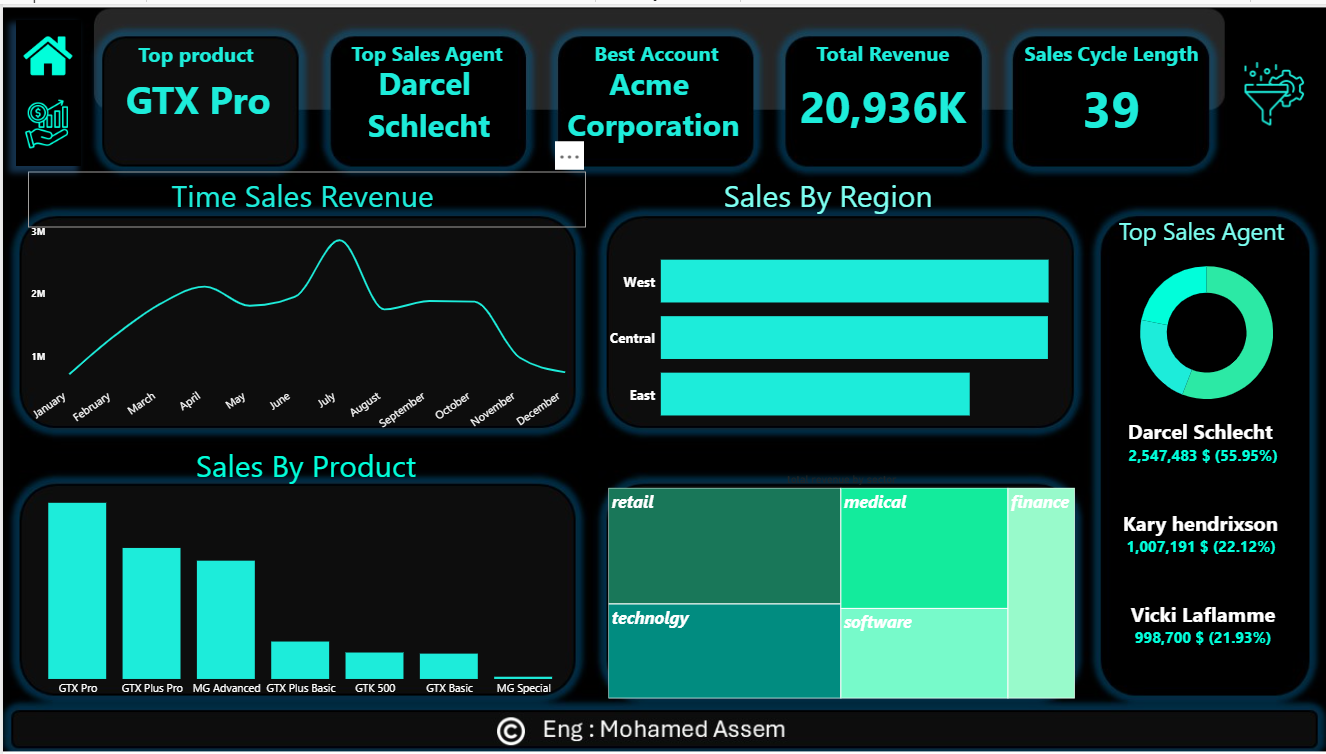

The page's visual inventory and layout, read from the dashboard file:
{"tool":"powerbi","page":{"name":"Main Dashboard","canvas":[2100,1200],"ordinal":1},"visuals":[{"type":"card","fields":{"Values":["Min(products.product)"]},"box":[157.7,52.6,306.6,195.6],"z":0},{"type":"textbox","box":[156.3,53.7,308,60.7],"z":1000},{"type":"card","fields":{"Values":["Min(sales_pipeline.sales_agent)"]},"box":[525.6,52.6,300.8,195.6],"z":2000},{"type":"textbox","box":[519.8,52.6,306.6,61.3],"z":3000},{"type":"card","fields":{"Values":["Min(accounts.account)"]},"box":[846.8,52.6,370.8,195.6],"z":4000},{"type":"textbox","box":[881.8,52.6,312.4,61.3],"z":5000},{"type":"card","fields":{"Values":["Dax measure.total revenue"]},"box":[1258.5,70.1,277.4,178.1],"z":6000},{"type":"textbox","box":[1258.5,52.6,277.4,61.3],"z":7000},{"type":"card","fields":{"Values":["Dax measure.Sales Cycle Length"]},"box":[1608.9,55.5,300.8,210.2],"z":8000},{"type":"textbox","box":[1608.9,52.6,300.8,70.1],"z":9000},{"type":"image","box":[1956.4,87.6,122.6,111],"z":10000},{"type":"lineChart","fields":{"Category":["Date_n.Date.Variation.Date Hierarchy.Year","Date_n.Date.Variation.Date Hierarchy.Quarter","Date_n.Date.Variation.Date Hierarchy.Month","Date_n.Date.Variation.Date Hierarchy.Day"],"Y":["Dax measure.total revenue"]},"box":[28.4,345.6,897.1,352.7],"z":11000},{"type":"clusteredBarChart","fields":{"Category":["sales_teams.regional_office"],"Y":["Dax measure.total revenue"]},"box":[956.3,357.4,750.3,340.9],"z":12000},{"type":"treemap","fields":{"Group":["accounts.sector"],"Values":["Dax measure.total revenue"]},"box":[956.4,744.1,750,363.1],"z":13000},{"type":"donutChart","fields":{"Category":["sales_pipeline.sales_agent"],"Y":["Dax measure.total revenue"]},"box":[1752,384.9,317.5,273.8],"z":14000},{"type":"textbox","box":[1732.7,598.9,345.6,508.9],"z":15000},{"type":"clusteredColumnChart","fields":{"Category":["products.product"],"Y":["Dax measure.total revenue"]},"box":[18.9,743.2,906.6,364.5],"z":16000},{"type":"textbox","box":[40.2,265.1,885.3,89.9],"z":17000},{"type":"textbox","box":[935,265.1,750.3,80.5],"z":18000},{"type":"textbox","box":[1765.8,329,291.1,68.6],"z":19000},{"type":"textbox","box":[28.4,693.5,906.6,99.4],"z":20000},{"type":"group","id":"g1","title":"buttons with back","box":[19.8,26.2,103.2,232.1],"z":21000},{"type":"shape","box":[19.8,26.2,103.2,232.1],"z":21500,"group":"g1"},{"type":"image","box":[28.4,33.1,87.6,97],"z":22000},{"type":"image","box":[26,135.3,87.3,111.1],"z":23000,"group":"g1"},{"type":"group","id":"g2","title":"Group 1","box":[1768.2,198.8,314.8,847.4],"z":23000}]}

Visuals, with their boxes in screenshot pixels (x1, y1, x2, y2), scaled from the page's 2100x1200 canvas onto the 1326x754 screenshot:
card - Min(products.product): BBox(100, 33, 293, 156)
textbox: BBox(99, 34, 293, 72)
card - Min(sales_pipeline.sales_agent): BBox(332, 33, 522, 156)
textbox: BBox(328, 33, 522, 72)
card - Min(accounts.account): BBox(535, 33, 769, 156)
textbox: BBox(557, 33, 754, 72)
card - Dax measure.total revenue: BBox(795, 44, 970, 156)
textbox: BBox(795, 33, 970, 72)
card - Dax measure.Sales Cycle Length: BBox(1016, 35, 1206, 167)
textbox: BBox(1016, 33, 1206, 77)
image: BBox(1235, 55, 1313, 125)
lineChart - Date_n.Date.Variation.Date Hierarchy.Year x Date_n.Date.Variation.Date Hierarchy.Quarter: BBox(18, 217, 584, 439)
clusteredBarChart - sales_teams.regional_office x Dax measure.total revenue: BBox(604, 225, 1078, 439)
treemap - accounts.sector x Dax measure.total revenue: BBox(604, 468, 1077, 696)
donutChart - sales_pipeline.sales_agent x Dax measure.total revenue: BBox(1106, 242, 1307, 414)
textbox: BBox(1094, 376, 1312, 696)
clusteredColumnChart - products.product x Dax measure.total revenue: BBox(12, 467, 584, 696)
textbox: BBox(25, 167, 584, 223)
textbox: BBox(590, 167, 1064, 217)
textbox: BBox(1115, 207, 1299, 250)
textbox: BBox(18, 436, 590, 498)
"buttons with back" group: BBox(13, 16, 78, 162)
shape: BBox(13, 16, 78, 162)
image: BBox(18, 21, 73, 82)
image: BBox(16, 85, 72, 155)
"Group 1" group: BBox(1116, 125, 1315, 657)
